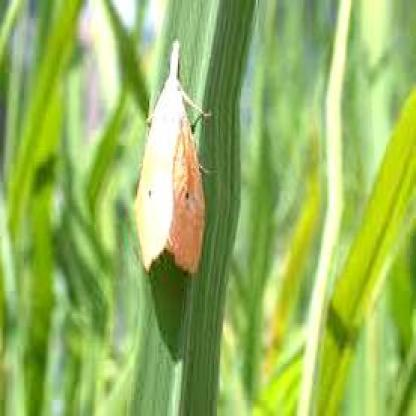stem-borer: (135, 38, 217, 275)
